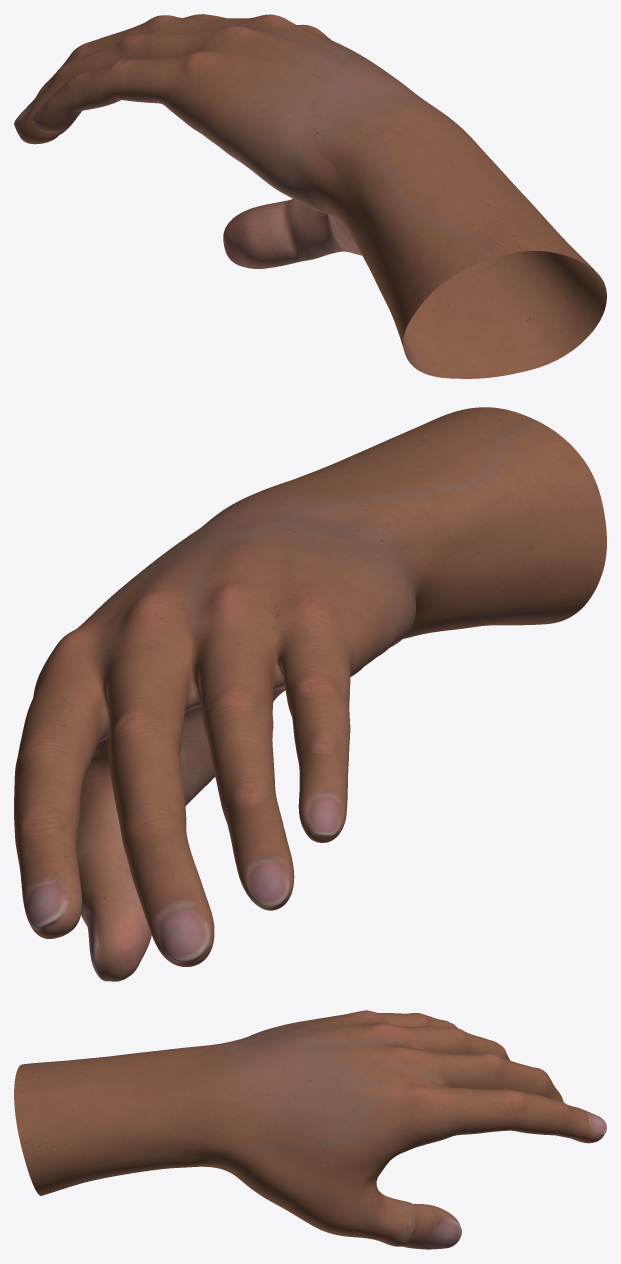
File: hand.glb
3 renders of one model, top to bottom at view 1: azimuth 30°, elevation 25°; view 2: azimuth 150°, elevation 25°; view 3: azimuth 270°, elevation 25°, orthographic. The views are drawn at different scales.
Visible parts, largest first — view 1: Hands_Low:Group52896; view 2: Hands_Low:Group52896; view 3: Hands_Low:Group52896.
Boxes of the visible parts, x1,y1,x2,y2 form: Hands_Low:Group52896: [14, 14, 606, 378]; Hands_Low:Group52896: [14, 407, 606, 981]; Hands_Low:Group52896: [14, 1010, 606, 1249].
Bounding box in the file's own units: 0.9576 × 0.8639 × 2.25.
1 material, 1 textured.
